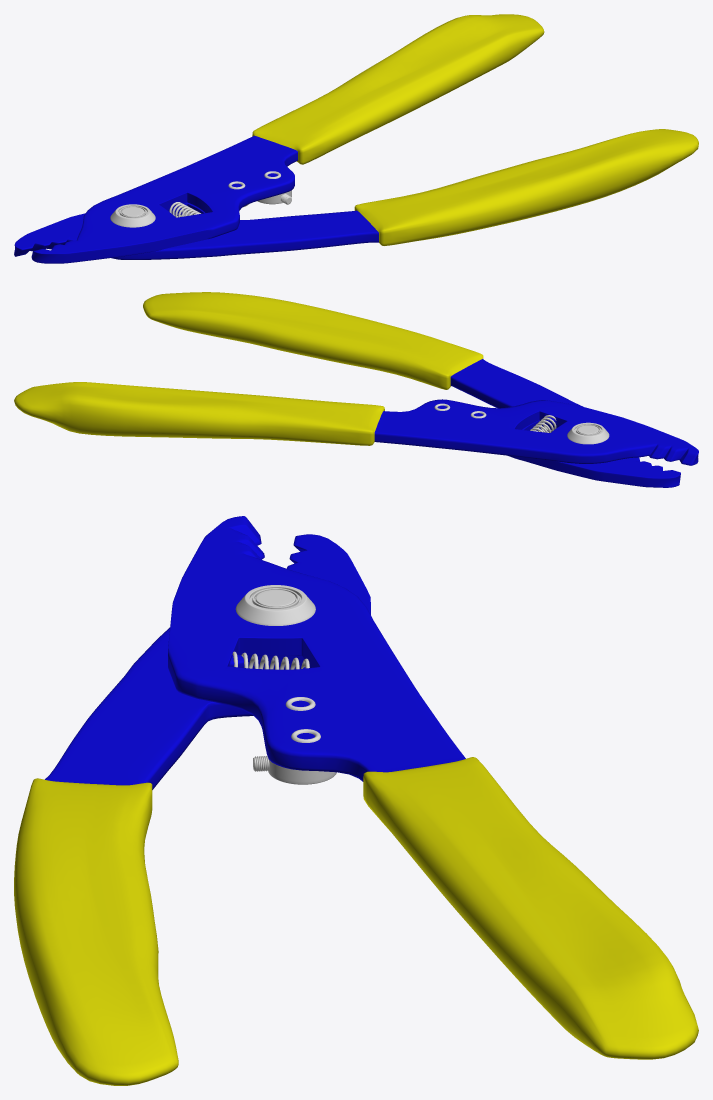
File: HP STRIPPER.fbx
3 renders of one model, top to bottom at view 1: azimuth 30°, elevation 25°; view 2: azimuth 150°, elevation 25°; view 3: azimuth 270°, elevation 25°, orthographic. The views are drawn at different scales.
Parts seen in each view (by area): view 1: STRIPPER ATAS, STRIPPER BAWAH, SIKU-SIKU; view 2: STRIPPER ATAS, STRIPPER BAWAH, SIKU-SIKU; view 3: STRIPPER ATAS, STRIPPER BAWAH, SIKU-SIKU, bundaran belakang.
Part boxes in pixels (left/top/right/bottom): STRIPPER ATAS: left=31, top=14, right=544, bottom=263; STRIPPER BAWAH: left=14, top=129, right=698, bottom=259; SIKU-SIKU: left=110, top=204, right=155, bottom=227; STRIPPER ATAS: left=14, top=382, right=698, bottom=465; STRIPPER BAWAH: left=143, top=292, right=680, bottom=487; SIKU-SIKU: left=567, top=422, right=609, bottom=444; STRIPPER ATAS: left=168, top=516, right=698, bottom=1059; STRIPPER BAWAH: left=14, top=534, right=370, bottom=1085; SIKU-SIKU: left=235, top=585, right=315, bottom=625; bundaran belakang: left=268, top=759, right=336, bottom=784.
Bounding box in the file's own units: 15.93 × 1.11 × 8.54.
